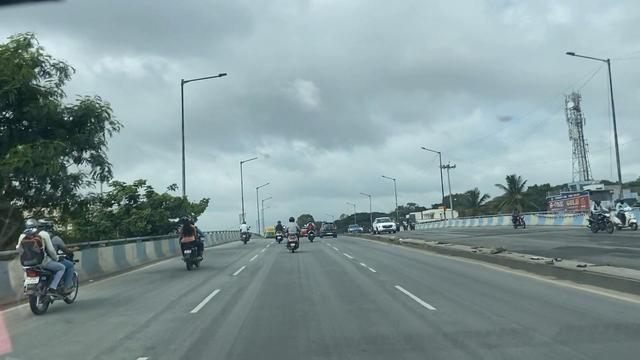LMV: (18, 213, 84, 313), (179, 215, 206, 271), (288, 216, 302, 255), (240, 213, 251, 248), (320, 221, 338, 238), (277, 217, 284, 244), (308, 219, 316, 242)
